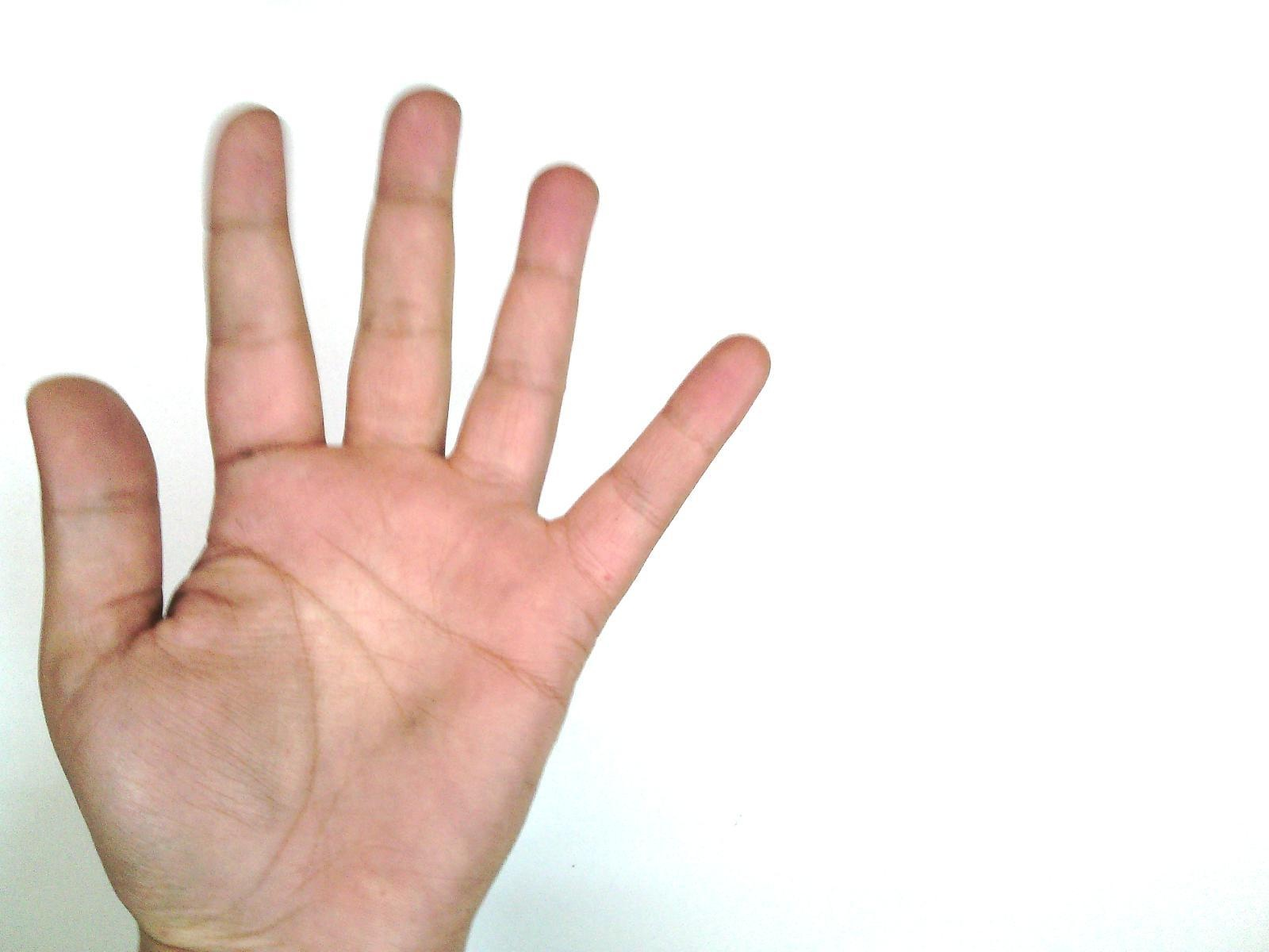open_palm: (25, 86, 774, 951)
